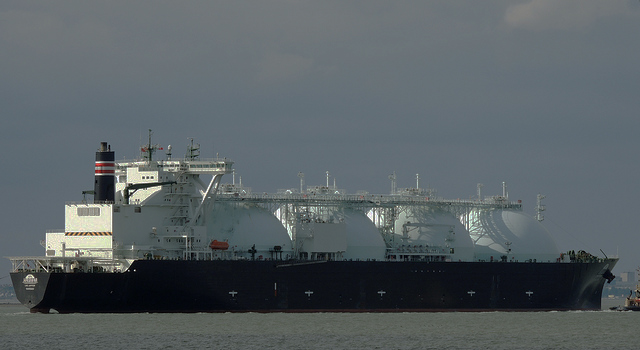LNG_ship: (11, 129, 616, 313)
